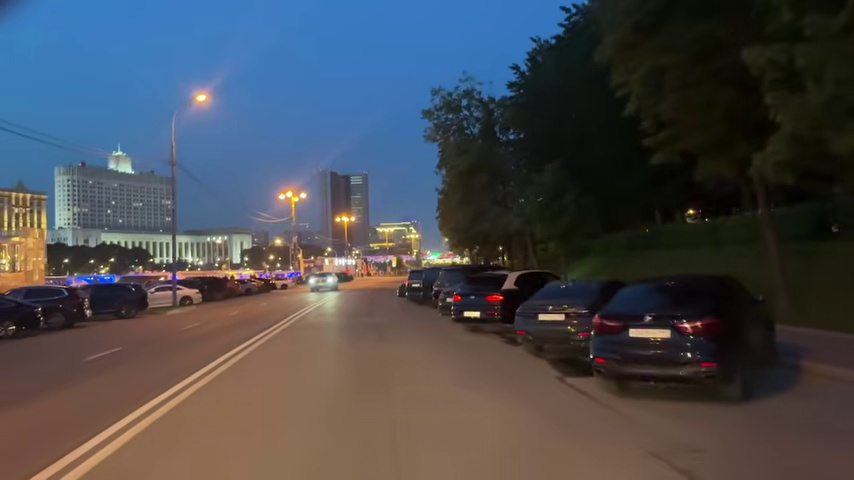acesa: (278, 186, 302, 206), (334, 210, 356, 230), (192, 89, 211, 106)
